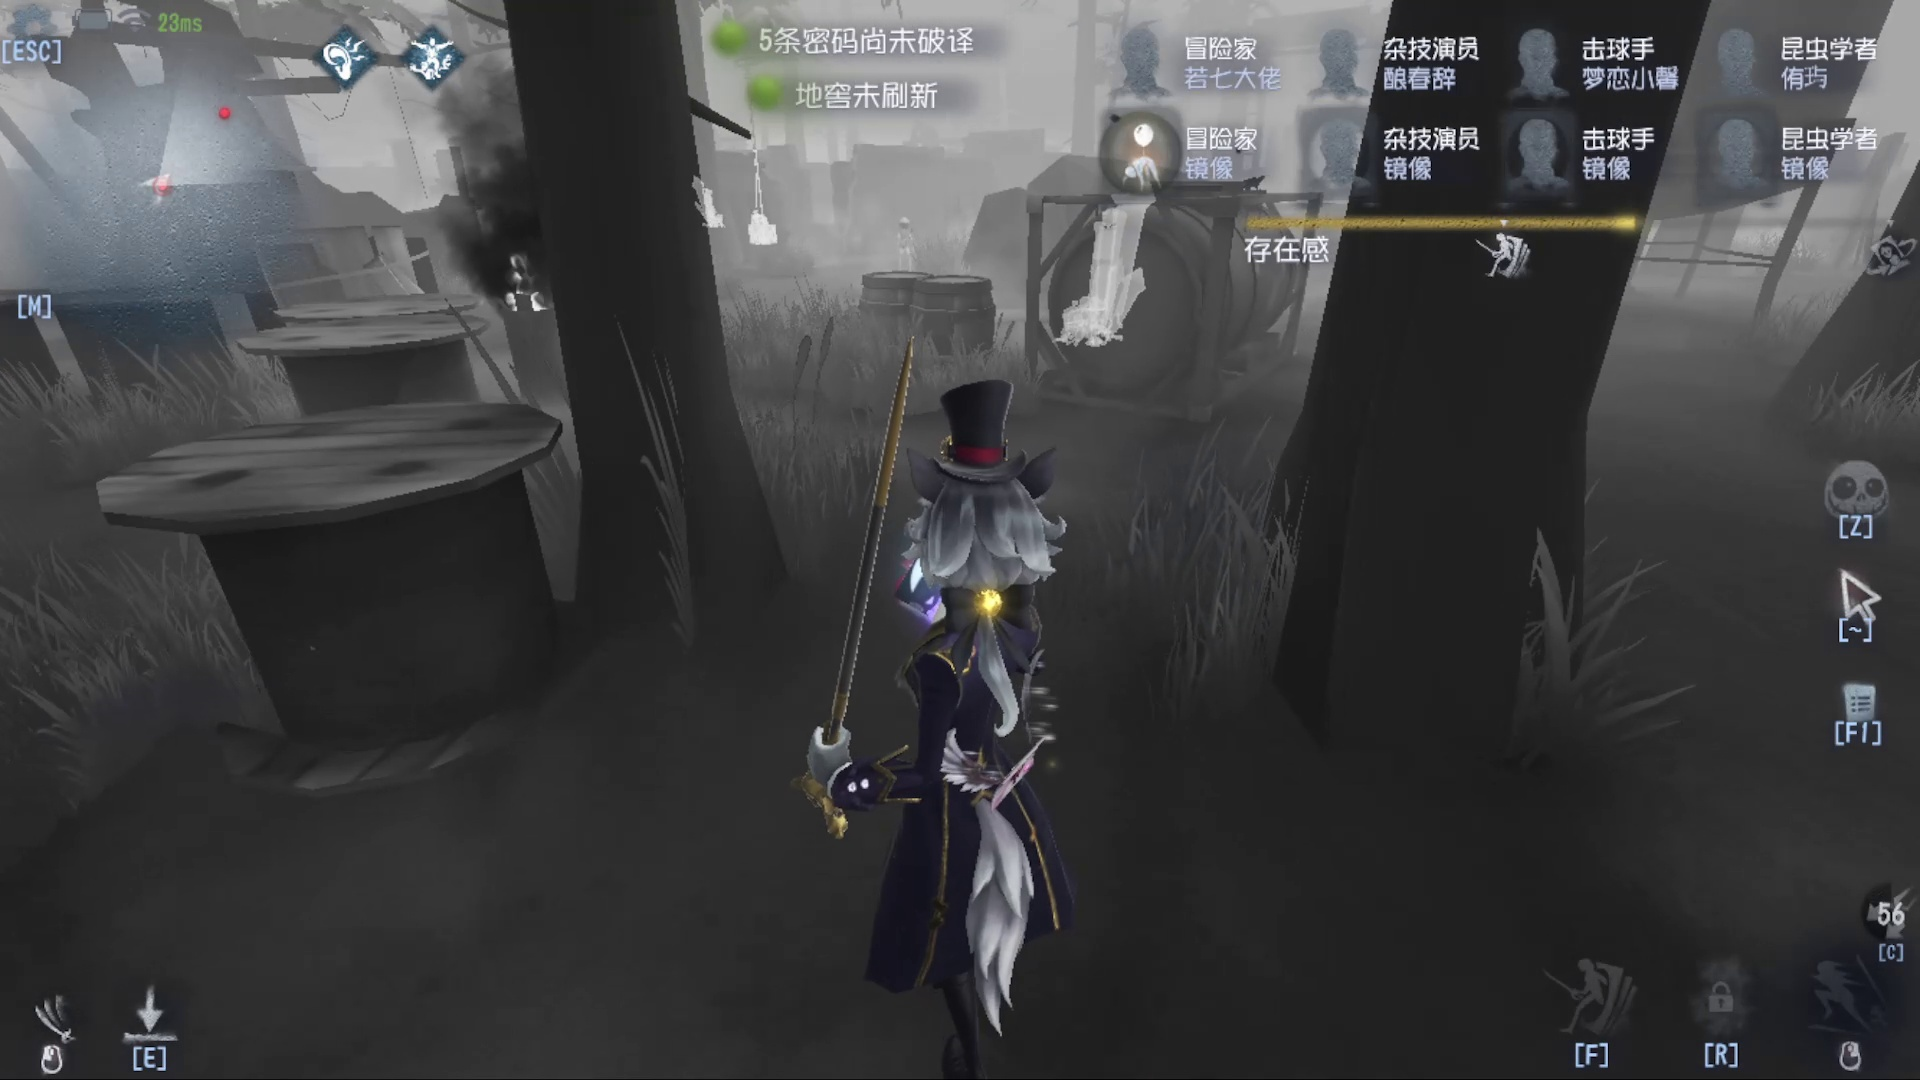密码机: (727, 87, 783, 261)
求生者: (880, 203, 916, 265)
狂欢之椅: (1067, 175, 1166, 368)
